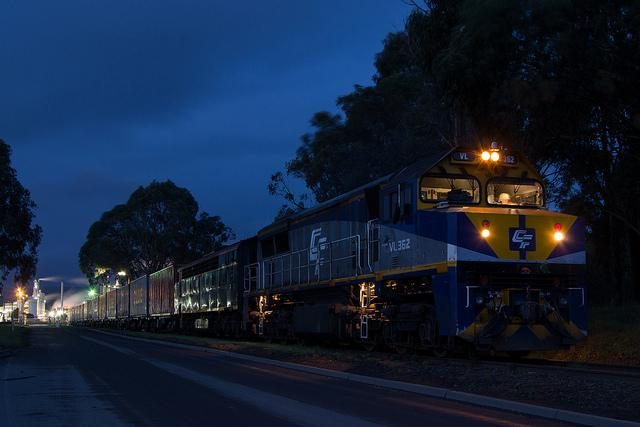Train: (57, 149, 584, 339)
